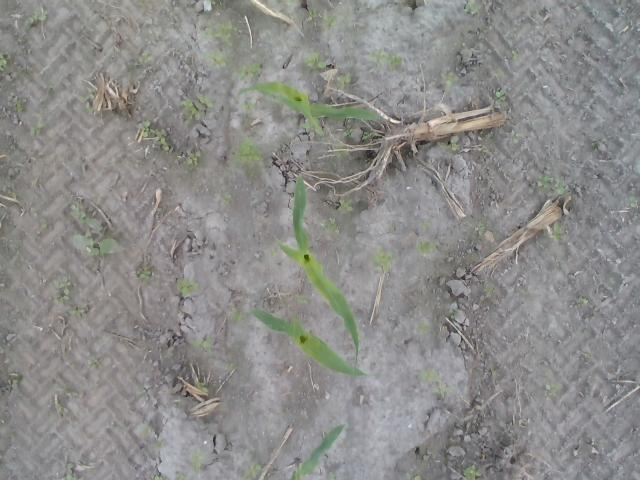Maize: (276, 174, 360, 364), (250, 306, 384, 380), (238, 80, 378, 138), (290, 423, 344, 480)
Weeds: (68, 200, 124, 257), (200, 18, 241, 69), (230, 134, 266, 168), (138, 120, 170, 152), (418, 367, 448, 400), (180, 95, 217, 120), (48, 275, 74, 306), (536, 174, 568, 197), (369, 245, 394, 274), (365, 46, 403, 64), (308, 8, 337, 28), (23, 9, 48, 30), (175, 277, 200, 297), (30, 111, 48, 137), (191, 334, 214, 354), (238, 63, 264, 80), (62, 302, 88, 319), (436, 134, 460, 152), (190, 448, 206, 473), (336, 195, 354, 217), (302, 52, 326, 68), (438, 70, 462, 86), (416, 239, 438, 256), (239, 464, 262, 480), (320, 216, 340, 234), (543, 382, 561, 401), (184, 150, 200, 170), (136, 264, 152, 284), (270, 0, 298, 11), (464, 0, 482, 17), (462, 463, 480, 480), (406, 465, 424, 480), (336, 72, 352, 88), (414, 321, 432, 335), (138, 52, 154, 66), (64, 463, 77, 480), (79, 95, 91, 113), (494, 87, 506, 104), (552, 221, 562, 241), (238, 100, 256, 111), (0, 51, 9, 73), (228, 307, 243, 320), (474, 220, 486, 236), (289, 313, 303, 326), (6, 371, 20, 384), (510, 128, 521, 144), (224, 360, 241, 370), (142, 422, 152, 439), (448, 306, 460, 320), (626, 194, 638, 208), (482, 286, 497, 297), (336, 144, 346, 160), (32, 223, 48, 233), (86, 356, 98, 369), (295, 294, 309, 305), (136, 0, 154, 8), (196, 382, 209, 393), (14, 100, 25, 112), (14, 66, 24, 78), (154, 438, 166, 448), (576, 296, 591, 304), (223, 192, 231, 206), (150, 473, 166, 480), (510, 49, 520, 60), (590, 141, 600, 152), (359, 158, 368, 170), (344, 127, 354, 137), (326, 470, 336, 480), (420, 222, 432, 230), (208, 0, 219, 8), (174, 473, 186, 480), (362, 131, 369, 140), (303, 120, 310, 128), (272, 248, 276, 256)
